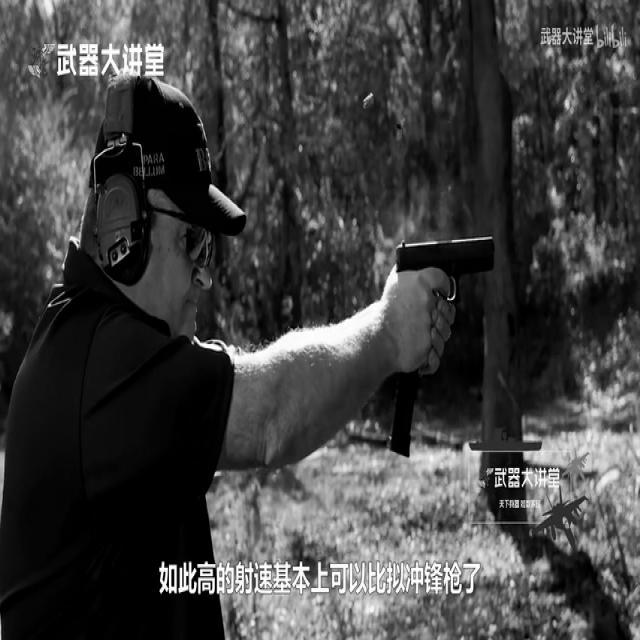Sub-machine-gun: (354, 143, 540, 553)
